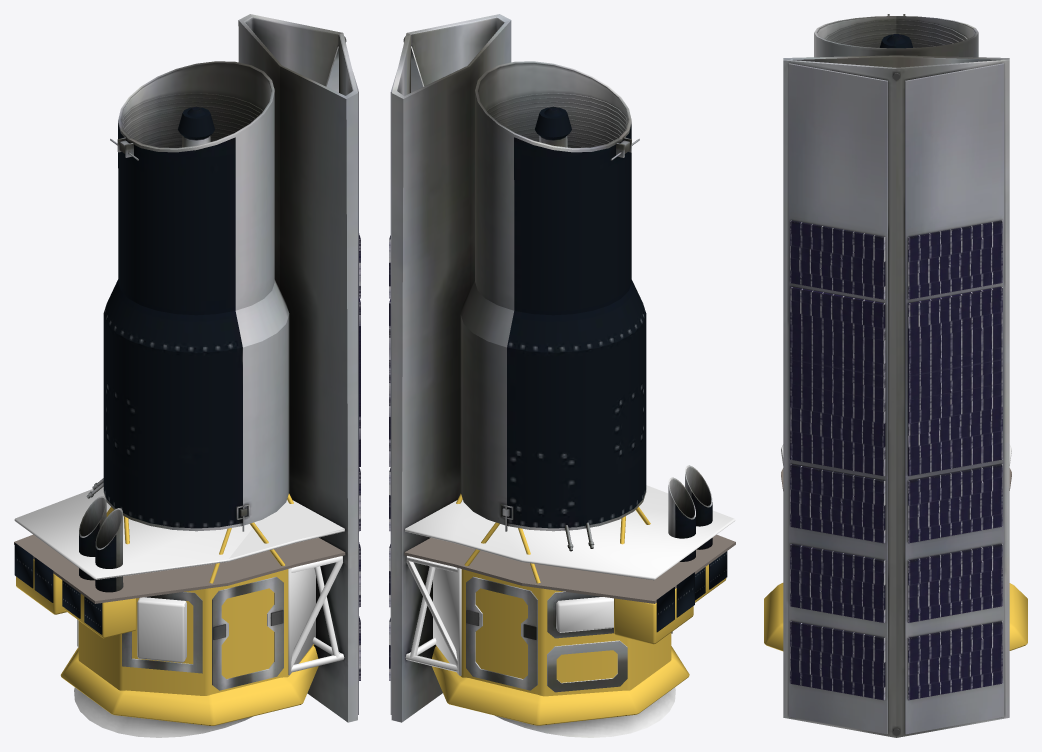
The model's file is SPITZER.gltf.
The picture shows the model from 3 angles, left to right: view 1: azimuth 30°, elevation 25°; view 2: azimuth 150°, elevation 25°; view 3: azimuth 270°, elevation 25°; orthographic projection. The views are drawn at different scales.
Visible parts, largest first — view 1: BUS, gold_foil, silver_foil, BUS.002, foil_platform, BUS.001; view 2: BUS, gold_foil, silver_foil, BUS.002, foil_platform, BUS.001; view 3: BUS, gold_foil.
Part boxes in pixels (bbox=[...]): BUS: bbox=[14, 14, 360, 722]; gold_foil: bbox=[16, 493, 318, 725]; silver_foil: bbox=[14, 487, 344, 675]; BUS.002: bbox=[103, 279, 289, 352]; foil_platform: bbox=[14, 534, 345, 603]; BUS.001: bbox=[74, 687, 252, 737]; BUS: bbox=[389, 14, 727, 722]; gold_foil: bbox=[432, 493, 726, 725]; silver_foil: bbox=[405, 485, 735, 675]; BUS.002: bbox=[460, 280, 646, 352]; foil_platform: bbox=[404, 534, 735, 603]; BUS.001: bbox=[495, 687, 675, 737]; BUS: bbox=[783, 14, 1009, 737]; gold_foil: bbox=[764, 583, 1027, 651].
Bounding box in the file's own units: 3.62 × 7.88 × 2.71.
8 materials, 3 textured.
